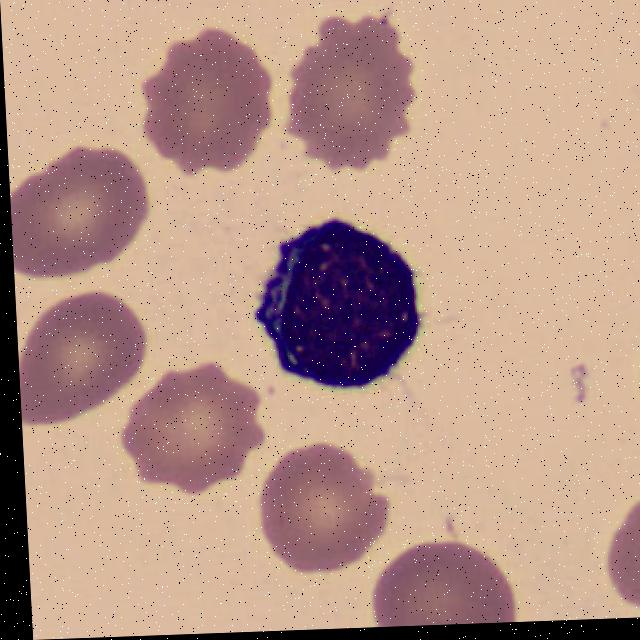lymphocyte: (250, 208, 430, 395)
rbc: (284, 13, 424, 175), (123, 355, 265, 498), (15, 281, 148, 425), (142, 29, 273, 173), (257, 439, 384, 578), (8, 147, 145, 275), (376, 548, 511, 627), (589, 466, 640, 612), (632, 312, 640, 445)
